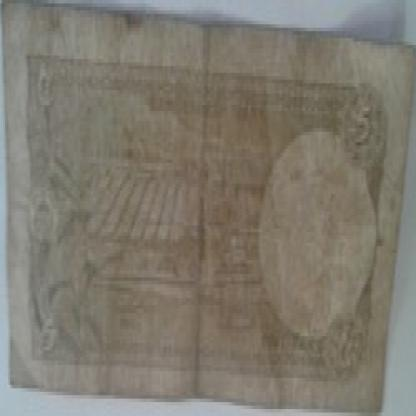Five Taka: (29, 302, 68, 381), (23, 52, 68, 118), (329, 315, 368, 385), (345, 80, 376, 156)
